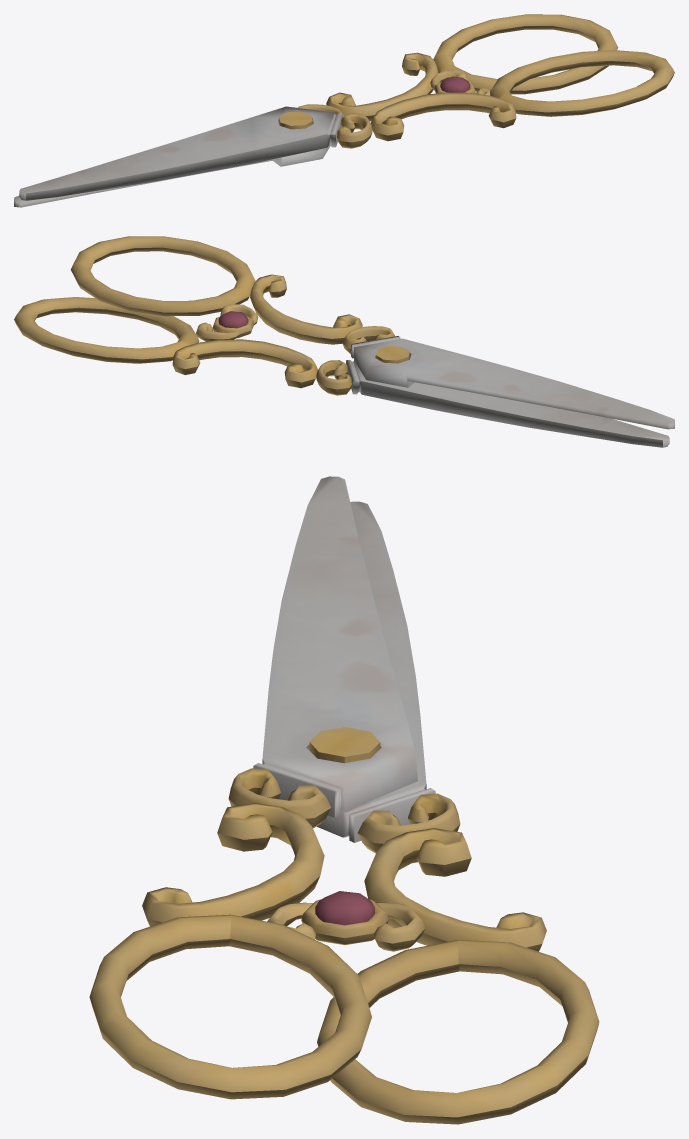
The model's file is SM_Farm_Scissors_01.fbx.
The picture shows the model from 3 angles, top to bottom: view 1: azimuth 30°, elevation 25°; view 2: azimuth 150°, elevation 25°; view 3: azimuth 270°, elevation 25°; orthographic projection. The views are drawn at different scales.
Visible parts, largest first — view 1: SM_Farm_Scissors_01_LOD0; view 2: SM_Farm_Scissors_01_LOD0; view 3: SM_Farm_Scissors_01_LOD0.
Part boxes in pixels (x1,y1,x2,y2): SM_Farm_Scissors_01_LOD0: (14,14,674,207); SM_Farm_Scissors_01_LOD0: (14,236,674,447); SM_Farm_Scissors_01_LOD0: (89,476,599,1124).
Bounding box in the file's own units: 58.38 × 3.29 × 20.73.
